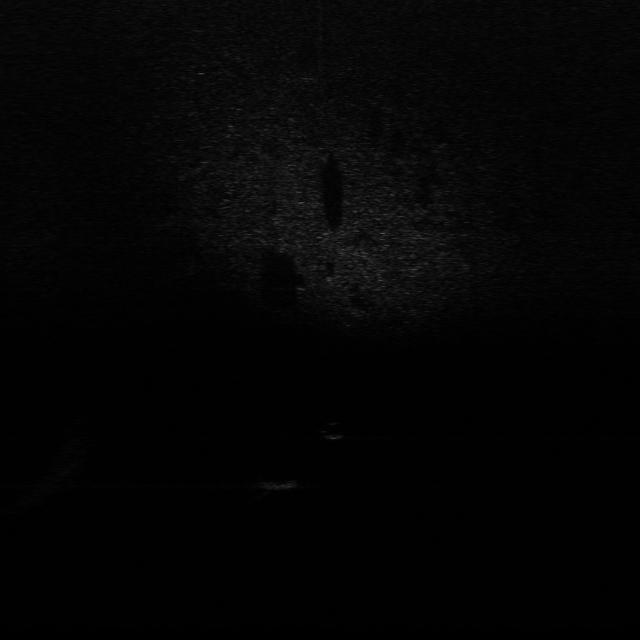ball: (318, 418, 349, 442)
square cage: (258, 473, 304, 494)
